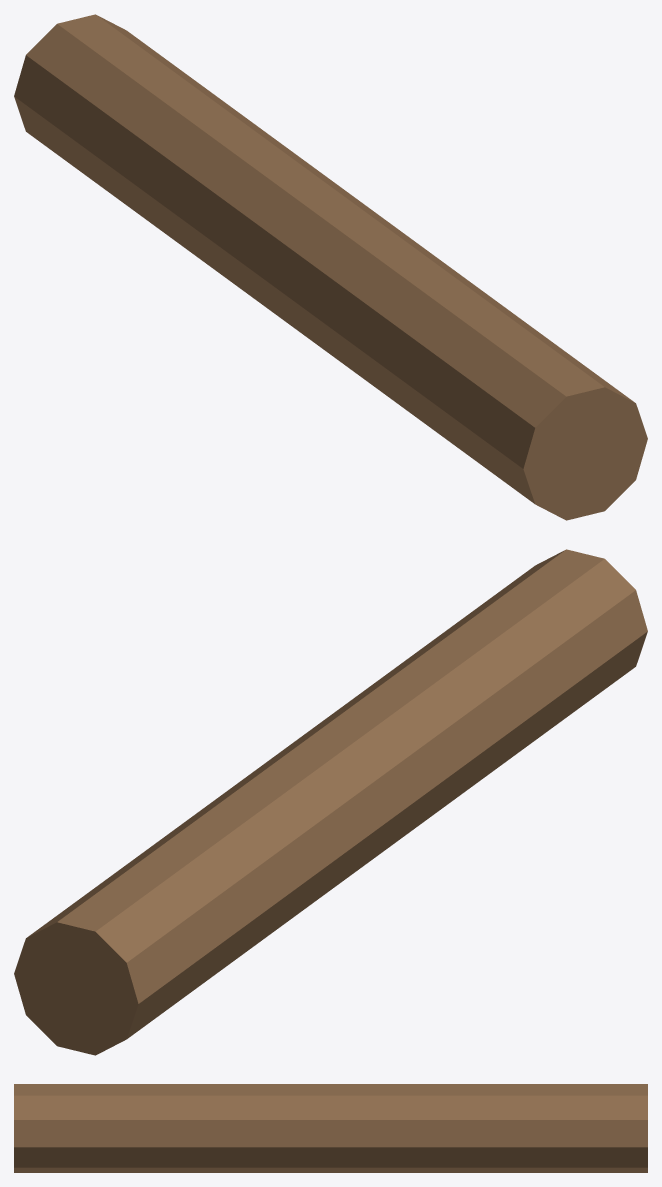
File: z5_tronco_1_lev1.glb
3 renders of one model, top to bottom at view 1: azimuth 30°, elevation 25°; view 2: azimuth 150°, elevation 25°; view 3: azimuth 270°, elevation 25°, orthographic. The views are drawn at different scales.
Visible parts, largest first — view 1: z5_tronco_1_lev1; view 2: z5_tronco_1_lev1; view 3: z5_tronco_1_lev1.
Boxes of the visible parts, box(x1,y1,x2,y2) form: z5_tronco_1_lev1: box(14, 14, 647, 520); z5_tronco_1_lev1: box(14, 549, 647, 1055); z5_tronco_1_lev1: box(14, 1084, 647, 1172).
Size of the model in its own units: 0.48 by 0.4565 by 3.4.
